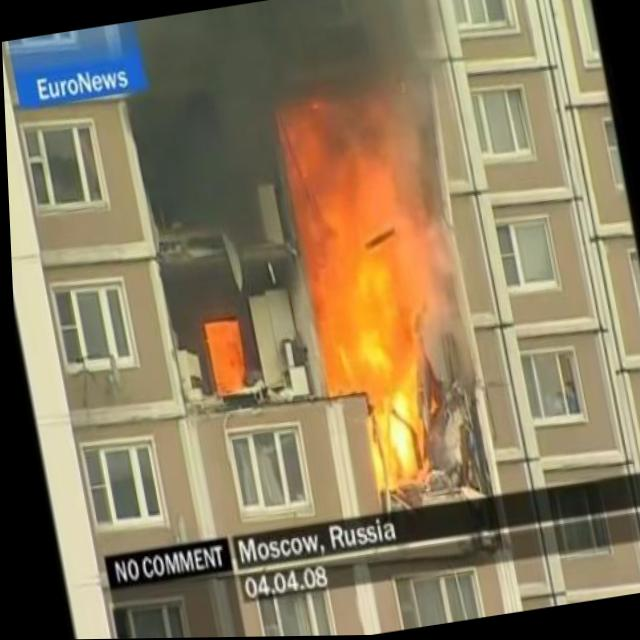fire: (268, 53, 482, 487), (203, 318, 251, 399)
